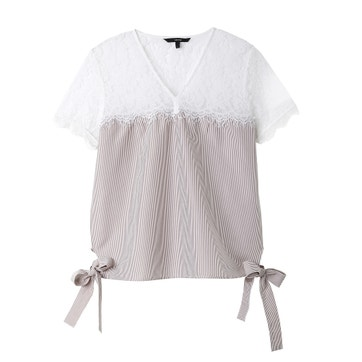C_short blouse: (61, 25, 302, 354)
